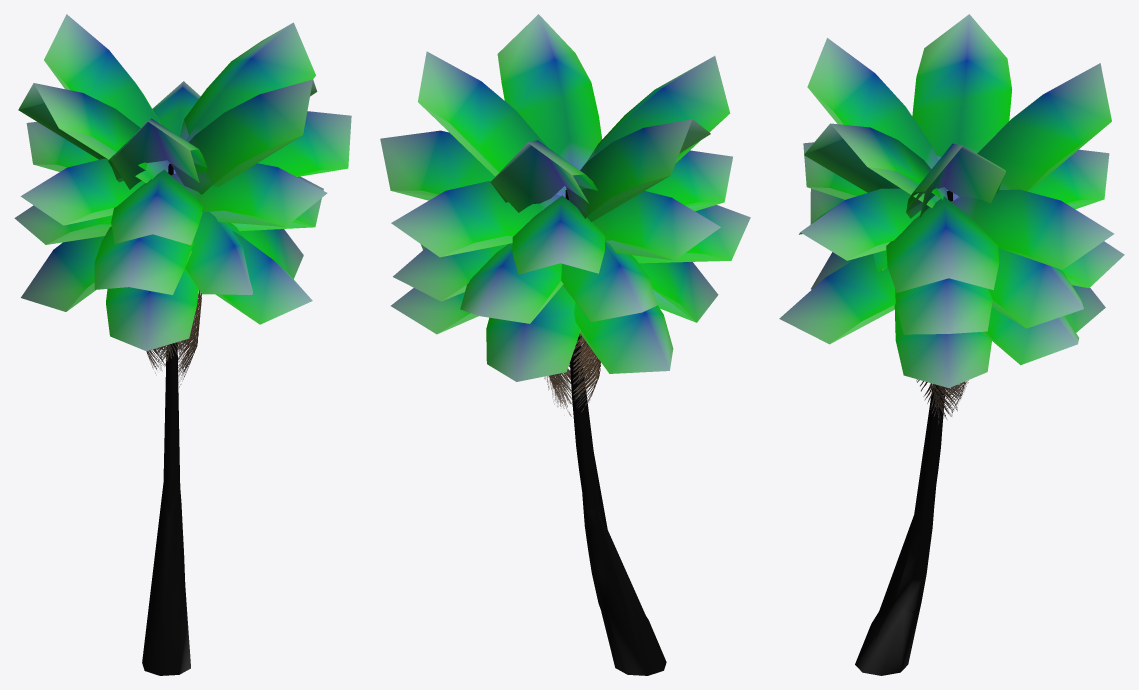
The model's file is Palm02.DAE.
3 views of the same model, side by side, from view 1: azimuth 30°, elevation 25°; view 2: azimuth 150°, elevation 25°; view 3: azimuth 270°, elevation 25° (orthographic). The views are drawn at different scales.
Visible parts, largest first — view 1: PalmTwo256, PalmTwo96, PalmTwo128; view 2: PalmTwo256, PalmTwo96, PalmTwo128; view 3: PalmTwo256, PalmTwo96, PalmTwo128.
Boxes of the visible parts, <box> form: PalmTwo256: <box>14,14,351,675</box>; PalmTwo96: <box>18,62,317,660</box>; PalmTwo128: <box>34,87,346,664</box>; PalmTwo256: <box>380,14,750,675</box>; PalmTwo96: <box>392,103,730,673</box>; PalmTwo128: <box>391,87,729,675</box>; PalmTwo256: <box>779,14,1124,672</box>; PalmTwo96: <box>799,88,1102,610</box>; PalmTwo128: <box>807,82,1110,675</box>.
Size of what is drawn, in the model's own units: 307 by 266 by 513.
